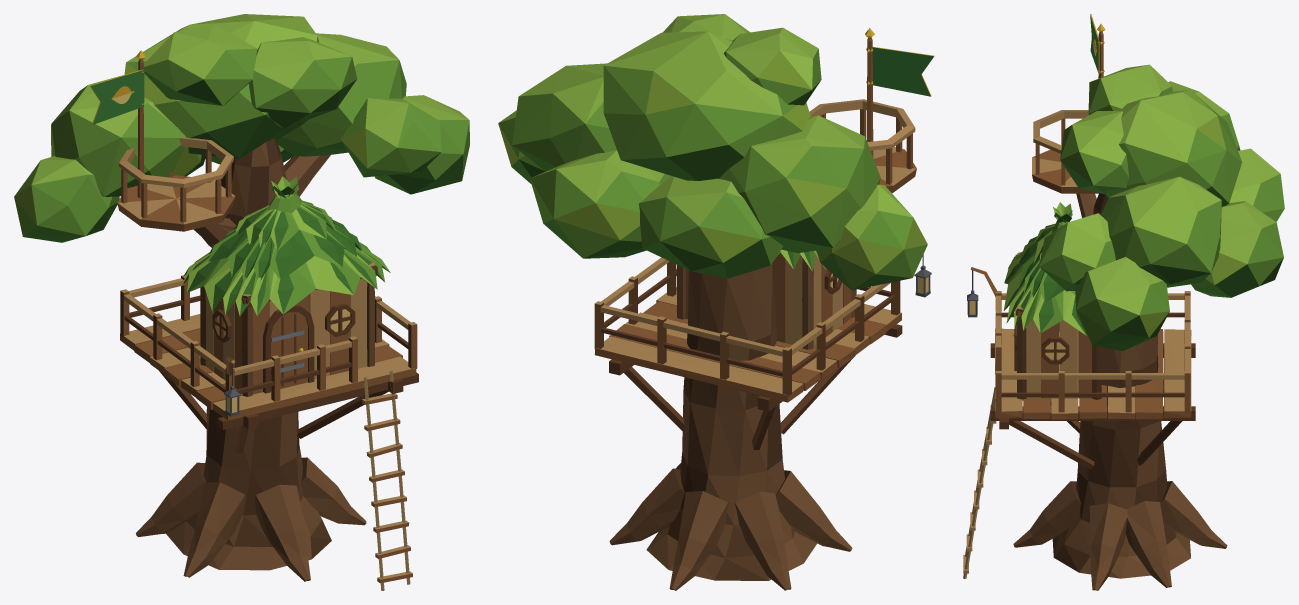
The model's file is home_treehouse.glb.
3 views of the same model, side by side, from view 1: azimuth 30°, elevation 25°; view 2: azimuth 150°, elevation 25°; view 3: azimuth 270°, elevation 25° (orthographic). The views are drawn at different scales.
Visible parts, largest first — view 1: home_treehouse, banner; view 2: home_treehouse, banner; view 3: home_treehouse.
Boxes of the visible parts, x1=… form: home_treehouse: x1=14, y1=14, x2=469, y2=590; banner: x1=89, y1=69, x2=144, y2=124; home_treehouse: x1=498, y1=14, x2=931, y2=590; banner: x1=866, y1=47, x2=934, y2=96; home_treehouse: x1=963, y1=23, x2=1284, y2=590.
Bounding box in the file's own units: 5.52 × 6.6 × 4.08.
